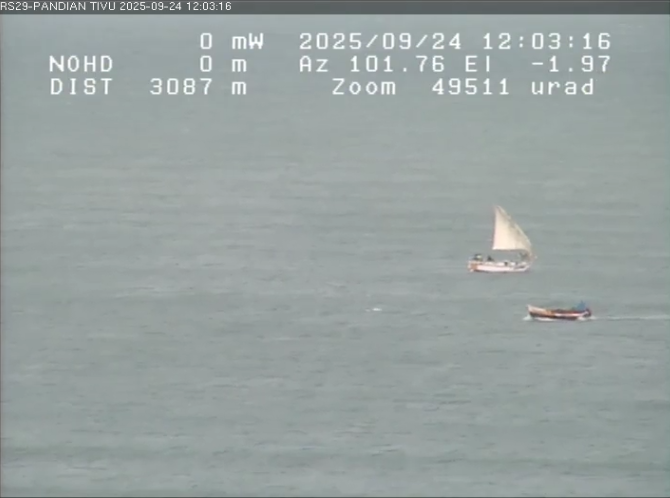FISHING_BOAT: (513, 290, 606, 332)
SAIL_BOAT: (458, 189, 559, 286)
